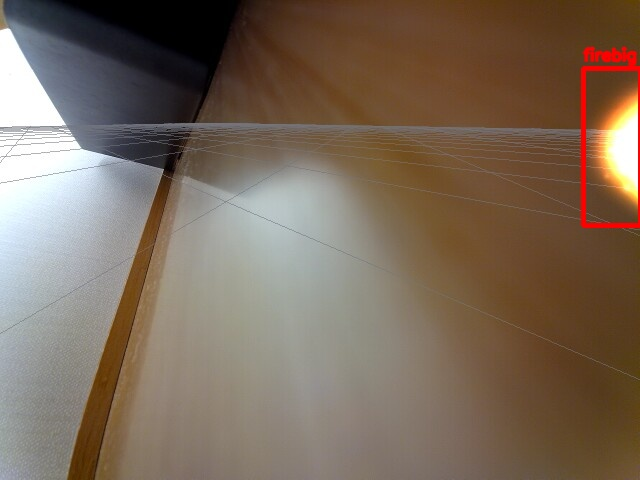firebig: (583, 68, 640, 225)
